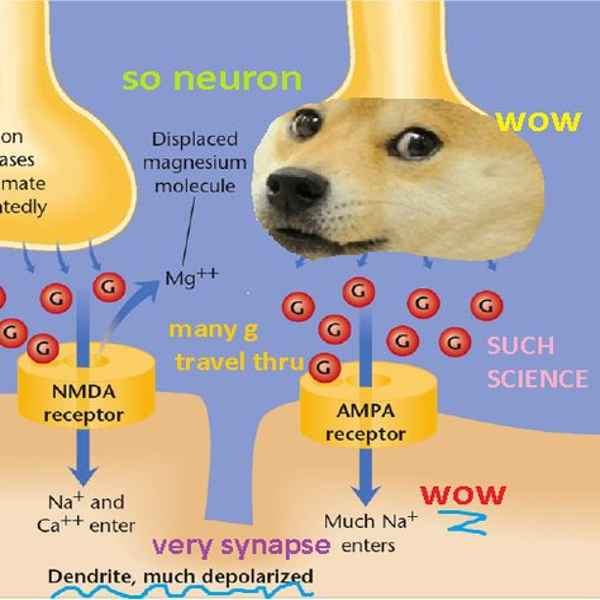doge: (242, 95, 489, 266)
